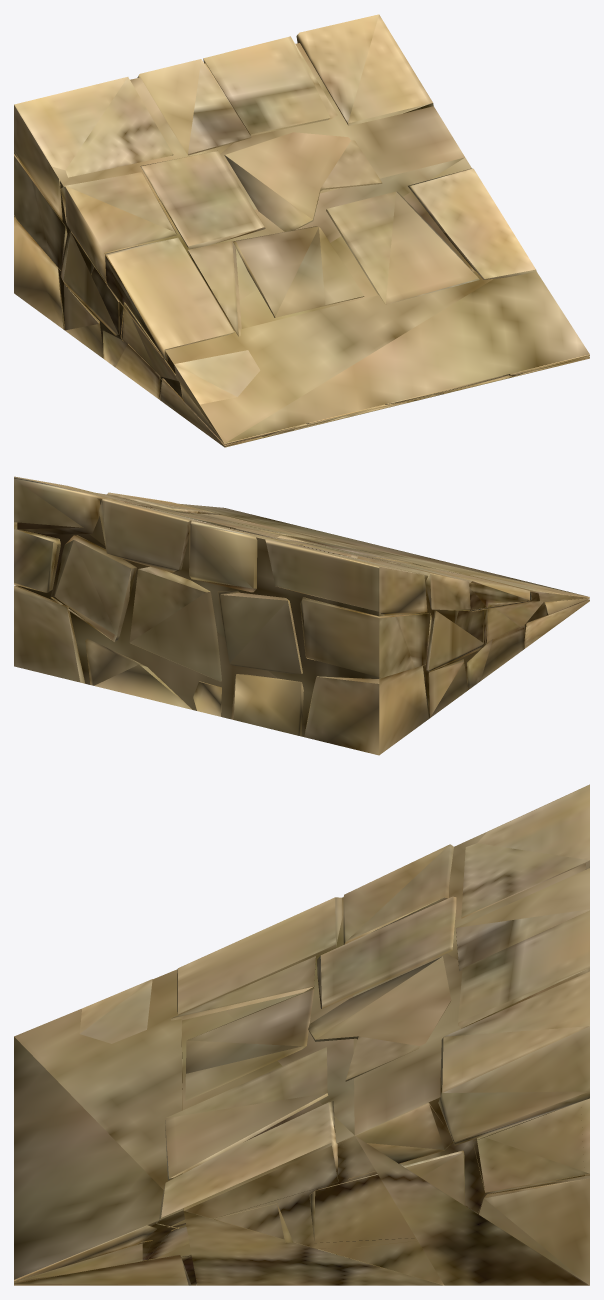
The model's file is ramp.lod1.glb.
3 views of the same model, one above another, from view 1: azimuth 30°, elevation 25°; view 2: azimuth 150°, elevation 25°; view 3: azimuth 270°, elevation 25° (orthographic). The views are drawn at different scales.
Size of the model in its own units: 2 by 1 by 2.
1 material, 1 textured.
